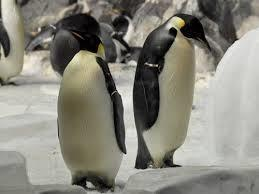emporer: (126, 7, 218, 179), (45, 22, 128, 192)
